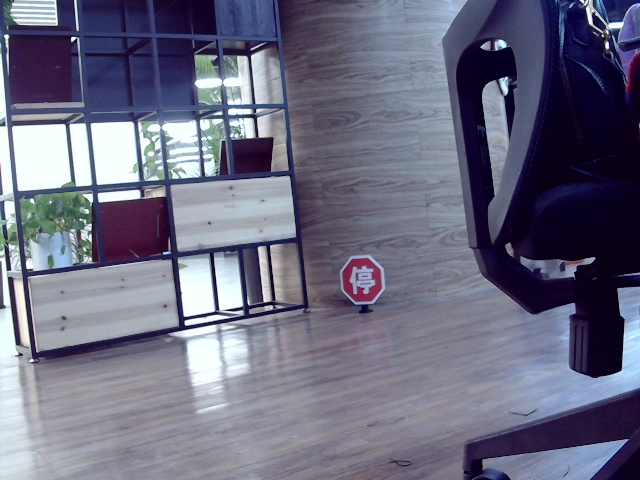stop: (347, 263, 377, 294)
